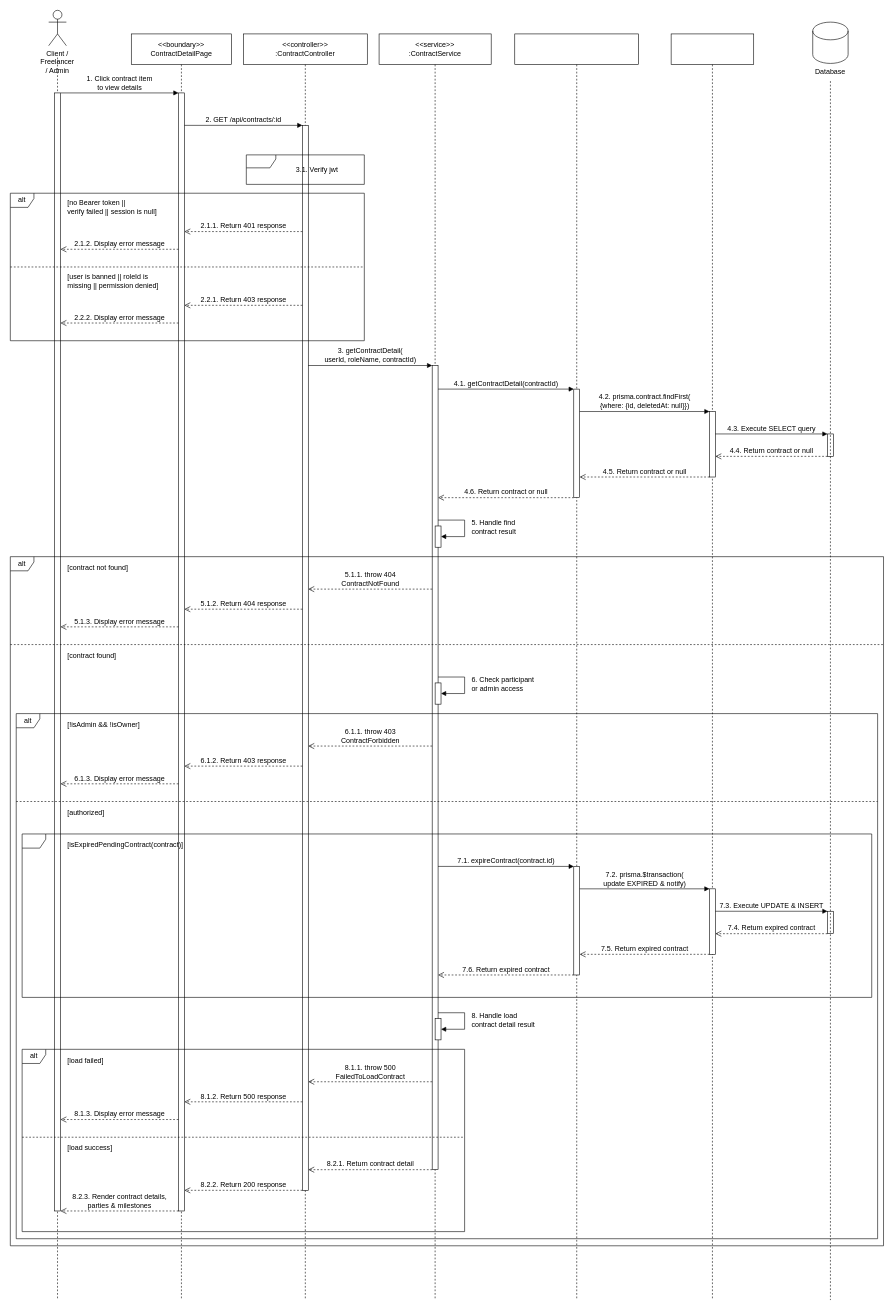
The diagram is 894 pixels wide and 1311 high, and some of its shapes have lost their labels. The box of each missing label's shape, as (x1, y1, x2, y2) in pixels:
<<repository>> :ContractRepository: (514, 33, 639, 1300)
<<service>> :PrismaService: (671, 33, 754, 1300)
opt: (22, 833, 872, 997)
ref: (246, 154, 364, 184)
